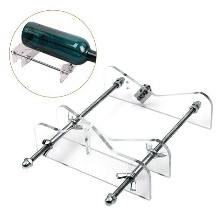bottle: (19, 19, 104, 66)
